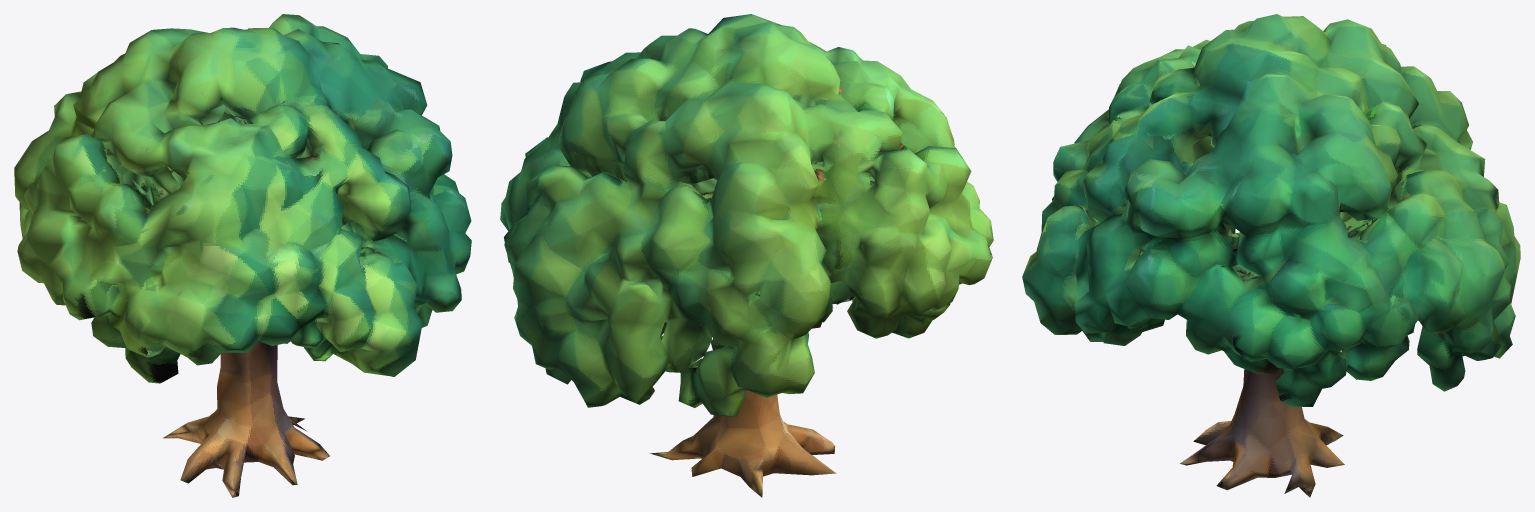
Rendered from tree.glb.
3 views of the same model, side by side, from view 1: azimuth 30°, elevation 25°; view 2: azimuth 150°, elevation 25°; view 3: azimuth 270°, elevation 25° (orthographic). The views are drawn at different scales.
Visible parts, largest first — view 1: tree; view 2: tree; view 3: tree.
Part boxes in pixels (x1,y1,x2,y2): tree: (14, 14, 471, 497); tree: (500, 14, 993, 497); tree: (1022, 14, 1520, 497).
Size of the model in its own units: 9.93 by 9.89 by 10.07.
1 material, 1 textured.
